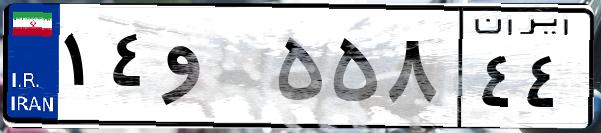1: (57, 26, 110, 100)
4: (475, 38, 525, 113), (525, 38, 570, 115), (110, 28, 158, 98)
5: (270, 28, 330, 110), (330, 28, 385, 110)
8: (385, 28, 445, 110)
و: (158, 20, 270, 120)
